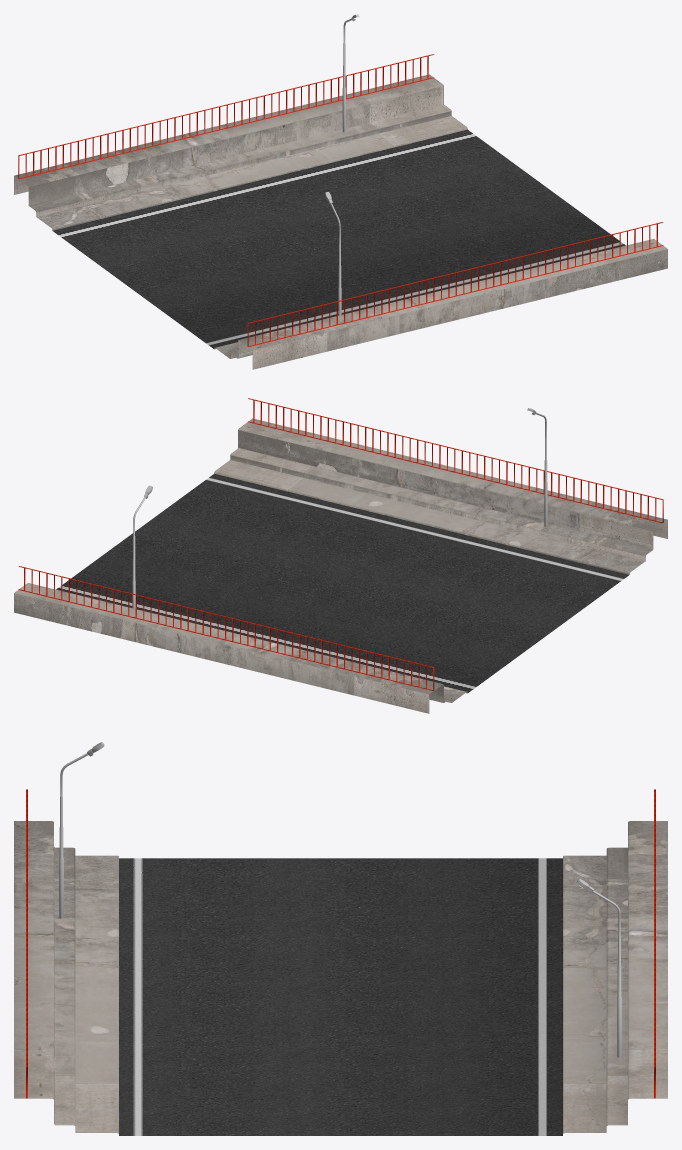
Rendered from most.glb.
3 views of the same model, one above another, from view 1: azimuth 30°, elevation 25°; view 2: azimuth 150°, elevation 25°; view 3: azimuth 270°, elevation 25° (orthographic). The views are drawn at different scales.
Parts seen in each view (by area): view 1: Plateform; view 2: Plateform; view 3: Plateform, Lights, Lights.001.
Boxes of the visible parts, left/top/right/bottom form: Plateform: left=14, top=54, right=667, bottom=369; Plateform: left=14, top=398, right=667, bottom=713; Plateform: left=14, top=789, right=667, bottom=1135; Lights: left=576, top=879, right=621, bottom=1057; Lights.001: left=59, top=742, right=104, bottom=918.
Size of the model in its own units: 27.12 by 8.49 by 27.
Materials: 6 (2 with a texture image).
